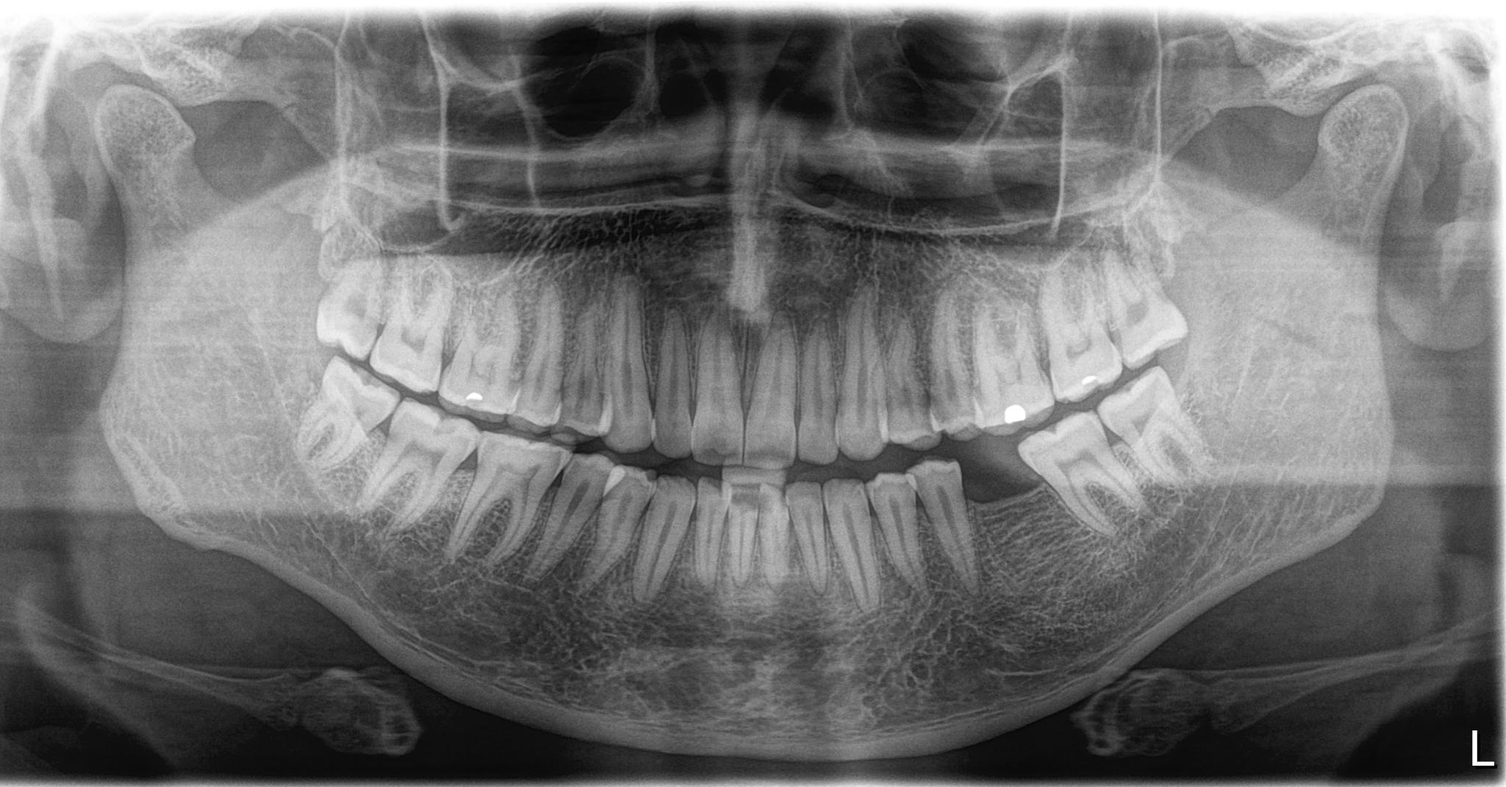Dental Caries: (726, 489, 776, 516)
Missing Tooth: (963, 459, 1054, 563)
